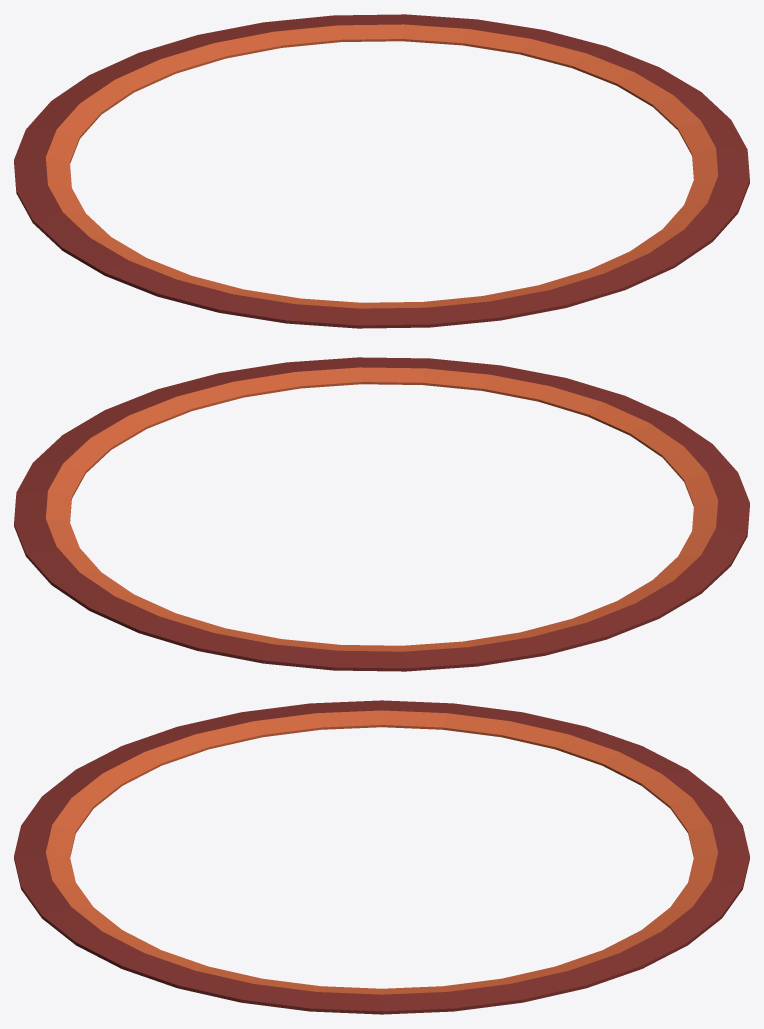
File: Gas_Giant_05_Ring_01_LOD1.fbx
The picture shows the model from 3 angles, top to bottom: view 1: azimuth 30°, elevation 25°; view 2: azimuth 150°, elevation 25°; view 3: azimuth 270°, elevation 25°; orthographic projection.
Parts seen in each view (by area): view 1: Gas_Giant_05_Ring_01_LOD1; view 2: Gas_Giant_05_Ring_01_LOD1; view 3: Gas_Giant_05_Ring_01_LOD1.
Boxes of the visible parts, bbox=[...] form: Gas_Giant_05_Ring_01_LOD1: bbox=[14, 14, 749, 328]; Gas_Giant_05_Ring_01_LOD1: bbox=[14, 357, 749, 671]; Gas_Giant_05_Ring_01_LOD1: bbox=[14, 700, 749, 1014].
Bounding box in the file's own units: 29463 × 391 × 29463.
